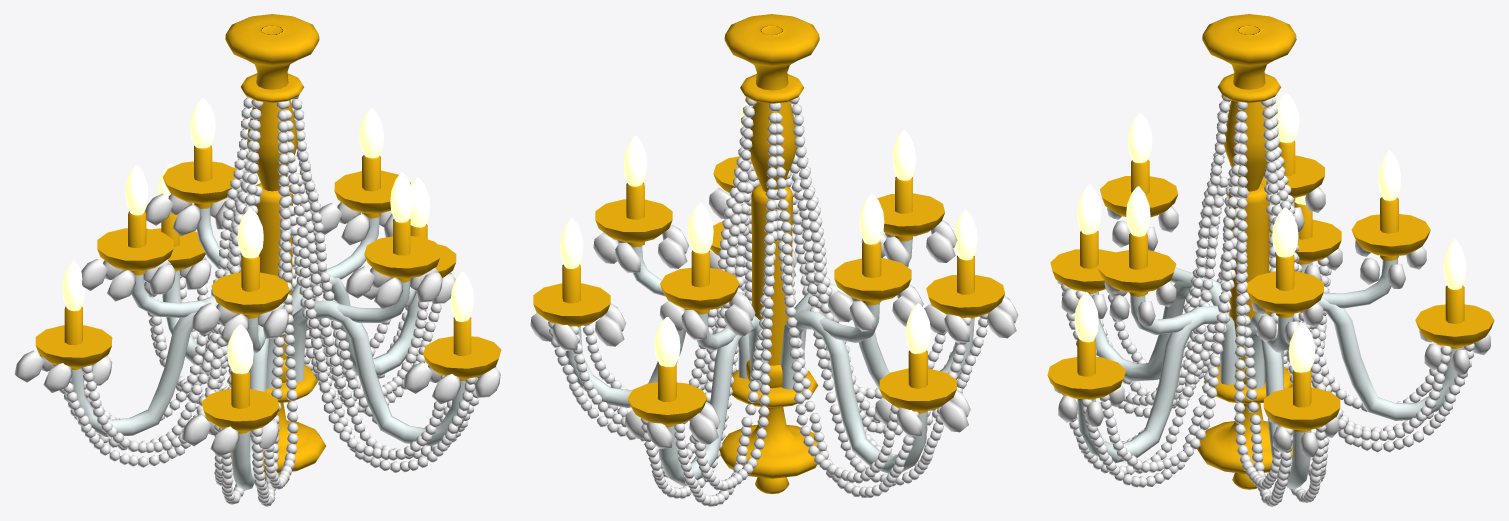
Rendered from lustre.FBX.
The picture shows the model from 3 angles, left to right: view 1: azimuth 30°, elevation 25°; view 2: azimuth 150°, elevation 25°; view 3: azimuth 270°, elevation 25°; orthographic projection.
Parts seen in each view (by area): view 1: Object04, GeoSphere58, GeoSphere62, GeoSphere61, GeoSphere63, GeoSphere64, GeoSphere69, GeoSphere56, GeoSphere06, GeoSphere09, GeoSphere73, GeoSphere72 (+15 smaller); view 2: Object04, GeoSphere56, GeoSphere60, GeoSphere72, GeoSphere71, GeoSphere67, GeoSphere59, GeoSphere55, GeoSphere61, GeoSphere07, GeoSphere66, GeoSphere08 (+13 smaller); view 3: Object04, GeoSphere63, GeoSphere54, GeoSphere64, GeoSphere55, GeoSphere65, GeoSphere69, GeoSphere58, GeoSphere66, GeoSphere60, GeoSphere59, GeoSphere70 (+14 smaller).
Boxes of the visible parts, left/top/right/bottom form: Object04: left=35, top=14, right=501, bottom=490; GeoSphere58: left=284, top=100, right=444, bottom=460; GeoSphere62: left=263, top=101, right=298, bottom=489; GeoSphere61: left=81, top=99, right=263, bottom=453; GeoSphere63: left=291, top=95, right=452, bottom=428; GeoSphere64: left=287, top=188, right=475, bottom=472; GeoSphere69: left=295, top=173, right=479, bottom=459; GeoSphere56: left=83, top=98, right=252, bottom=420; GeoSphere06: left=345, top=266, right=442, bottom=308; GeoSphere09: left=81, top=259, right=175, bottom=301; GeoSphere73: left=251, top=186, right=291, bottom=506; GeoSphere72: left=63, top=186, right=262, bottom=467; Object04: left=533, top=14, right=1004, bottom=494; GeoSphere56: left=774, top=103, right=898, bottom=483; GeoSphere60: left=689, top=103, right=776, bottom=491; GeoSphere72: left=792, top=179, right=945, bottom=486; GeoSphere71: left=674, top=189, right=780, bottom=506; GeoSphere67: left=772, top=189, right=918, bottom=497; GeoSphere59: left=570, top=97, right=751, bottom=427; GeoSphere55: left=655, top=98, right=756, bottom=477; GeoSphere61: left=791, top=96, right=930, bottom=456; GeoSphere07: left=593, top=224, right=688, bottom=273; GeoSphere66: left=640, top=182, right=751, bottom=498; GeoSphere08: left=659, top=291, right=755, bottom=340; Object04: left=1047, top=14, right=1494, bottom=489; GeoSphere63: left=1099, top=101, right=1247, bottom=472; GeoSphere54: left=1234, top=102, right=1280, bottom=489; GeoSphere64: left=1062, top=176, right=1228, bottom=474; GeoSphere55: left=1268, top=98, right=1451, bottom=441; GeoSphere65: left=1235, top=187, right=1293, bottom=506; GeoSphere69: left=1081, top=188, right=1249, bottom=487; GeoSphere58: left=1103, top=95, right=1230, bottom=443; GeoSphere66: left=1264, top=184, right=1474, bottom=452; GeoSphere60: left=1269, top=97, right=1443, bottom=411; GeoSphere59: left=1260, top=98, right=1329, bottom=481; GeoSphere70: left=1266, top=183, right=1326, bottom=502.
Size of the model in its own units: 356 by 359 by 319.
